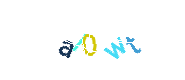0: (52, 0, 132, 80)
A: (26, 0, 106, 80)
I: (50, 0, 130, 80)
T: (76, 0, 156, 80)
W: (69, 0, 149, 80)
